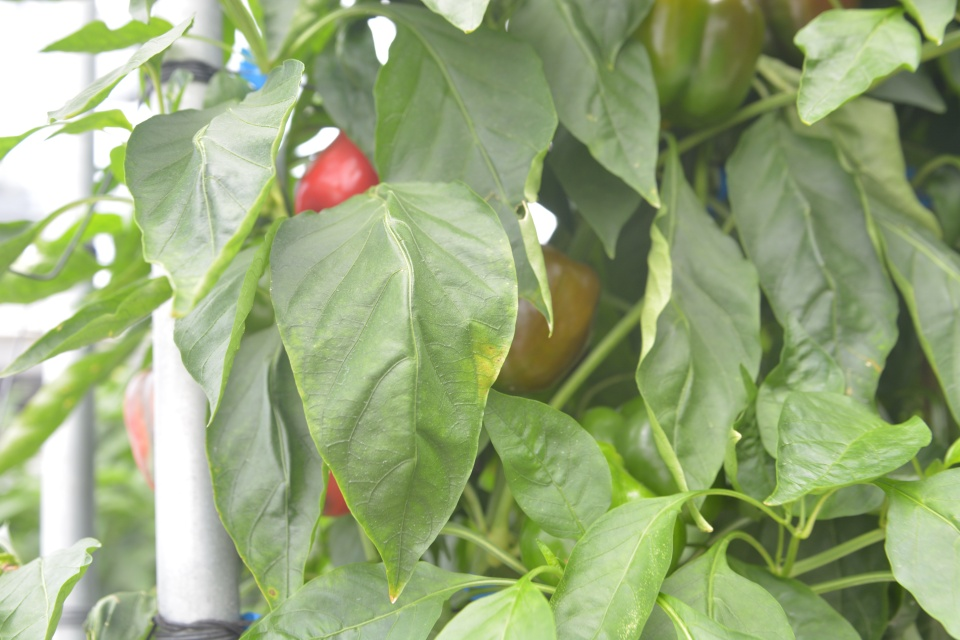fruit: (517, 393, 730, 580), (629, 0, 767, 128), (490, 240, 602, 397), (294, 128, 379, 215), (757, 0, 867, 63), (120, 360, 156, 495)
